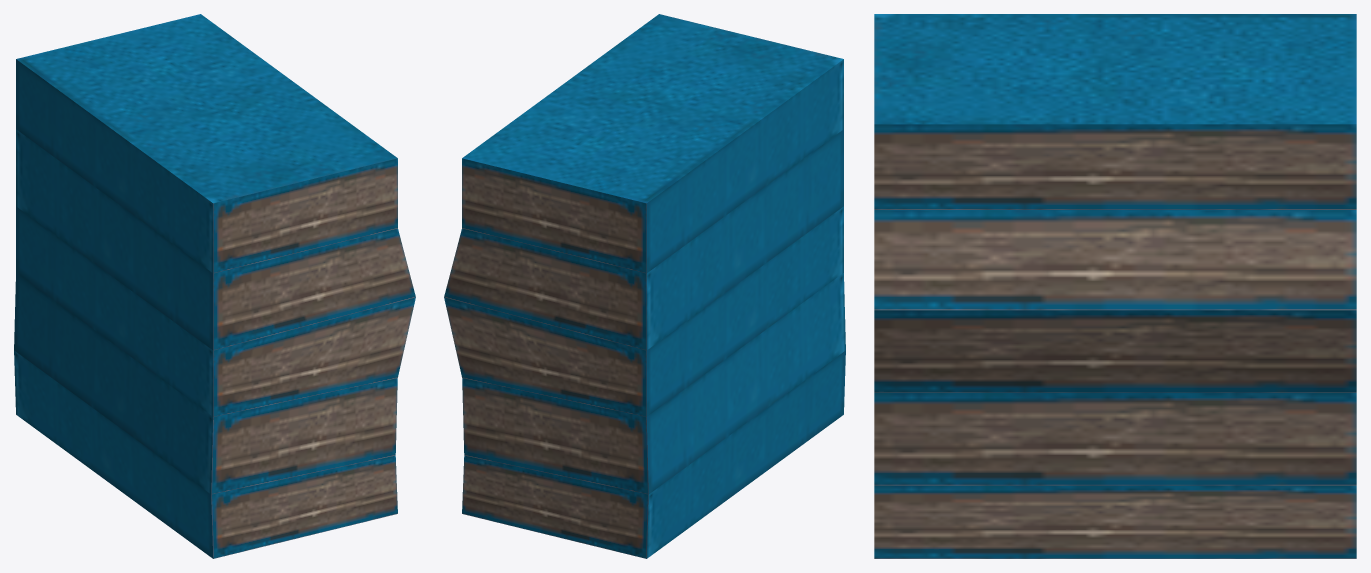
File: nt_2020_books_row02_LOD1.obj
3 views of the same model, side by side, from view 1: azimuth 30°, elevation 25°; view 2: azimuth 150°, elevation 25°; view 3: azimuth 270°, elevation 25° (orthographic). The views are drawn at different scales.
Visible parts, largest first — view 1: mtl_nt_2020_books; view 2: mtl_nt_2020_books; view 3: mtl_nt_2020_books.
Boxes of the visible parts, <box> form: mtl_nt_2020_books: <box>14,14,415,558</box>; mtl_nt_2020_books: <box>444,14,845,558</box>; mtl_nt_2020_books: <box>874,14,1356,558</box>.
Size of the model in its own units: 15.37 by 25.5 by 25.63.
